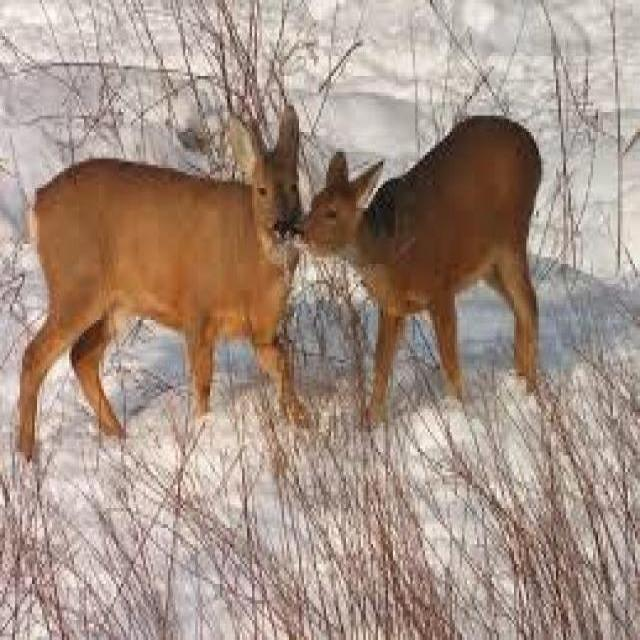deer: (0, 82, 323, 465), (308, 87, 565, 438)
